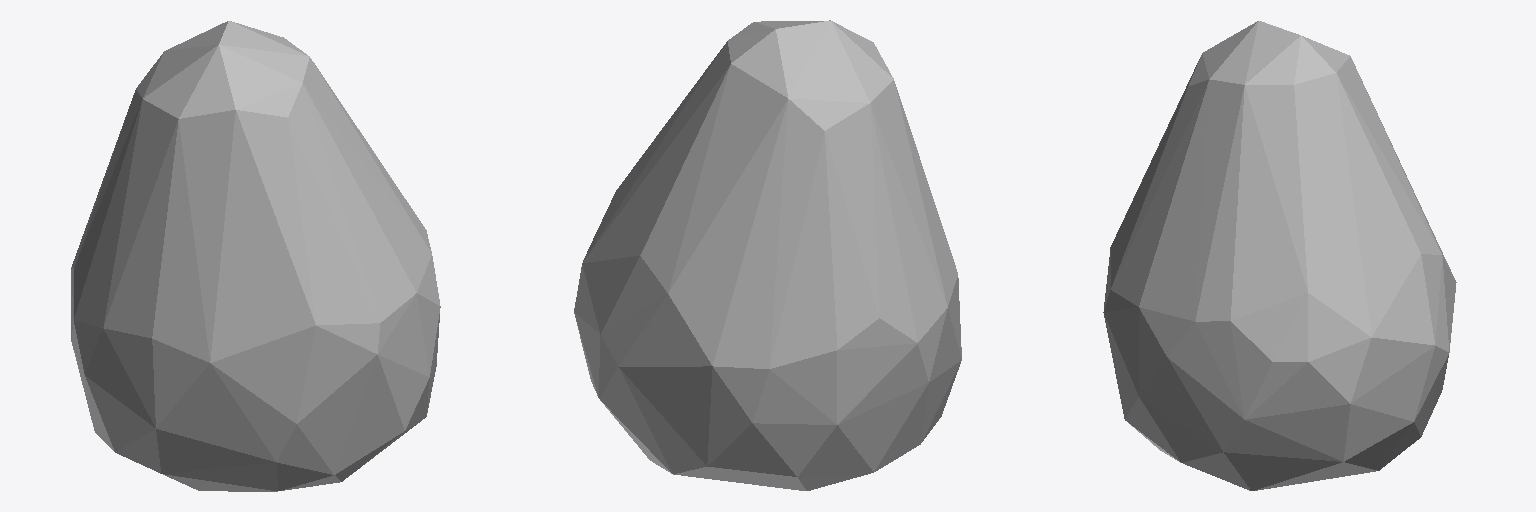
The robot description file, URDF, robot "root":
<robot name="root">
  <link name="link_ycb~016_pear_convex_piece_0">
    <inertial>
      <origin xyz="0 0 0" rpy="0 0 0"/>
      <mass value="8.14E-01"/>
      <inertia ixx="5.44E-04" ixy="4.97E-08" ixz="2.31E-05" iyy="5.57E-04" iyz="3.60E-06" izz="4.13E-04"/>
    </inertial>
    <visual>
      <origin xyz="0 0 0" rpy="0 0 0"/>
      <geometry>
        <mesh filename="ycb~016_pear_convex_piece_0.obj" scale="1.0000E+00 1.0000E+00 1.0000E+00"/>
      </geometry>
      <material name="">
        <color rgba="7.50E-01 7.50E-01 7.50E-01 1"/>
      </material>
    </visual>
    <collision>
      <origin xyz="0 0 0" rpy="0 0 0"/>
      <geometry>
        <mesh filename="ycb~016_pear_convex_piece_0.obj" scale="1.0000E+00 1.0000E+00 1.0000E+00"/>
      </geometry>
    </collision>
  </link>
</robot>

--- What the picture shows (computed from the rendered views, not written in the file) ---
3 views of the same robot in one strip: view 1: azimuth 30°, elevation 25°; view 2: azimuth 150°, elevation 25°; view 3: azimuth 270°, elevation 25° (orthographic).
Model root with 1 links and 0 joints (none), rooted at link_ycb~016_pear_convex_piece_0, posed every joint at zero.
Links seen in each view (by area): view 1: link_ycb~016_pear_convex_piece_0; view 2: link_ycb~016_pear_convex_piece_0; view 3: link_ycb~016_pear_convex_piece_0.
Boxes of the visible links, box(x1,y1,x2,y2) form: link_ycb~016_pear_convex_piece_0: box(71, 21, 440, 491); link_ycb~016_pear_convex_piece_0: box(574, 20, 961, 490); link_ycb~016_pear_convex_piece_0: box(1103, 21, 1456, 490).
Size in the robot's own frame: 0.0734 by 0.0719 by 0.0905 metres.
Meshes: 1 distinct files referenced, 1 mesh visuals loaded (1 OBJ).